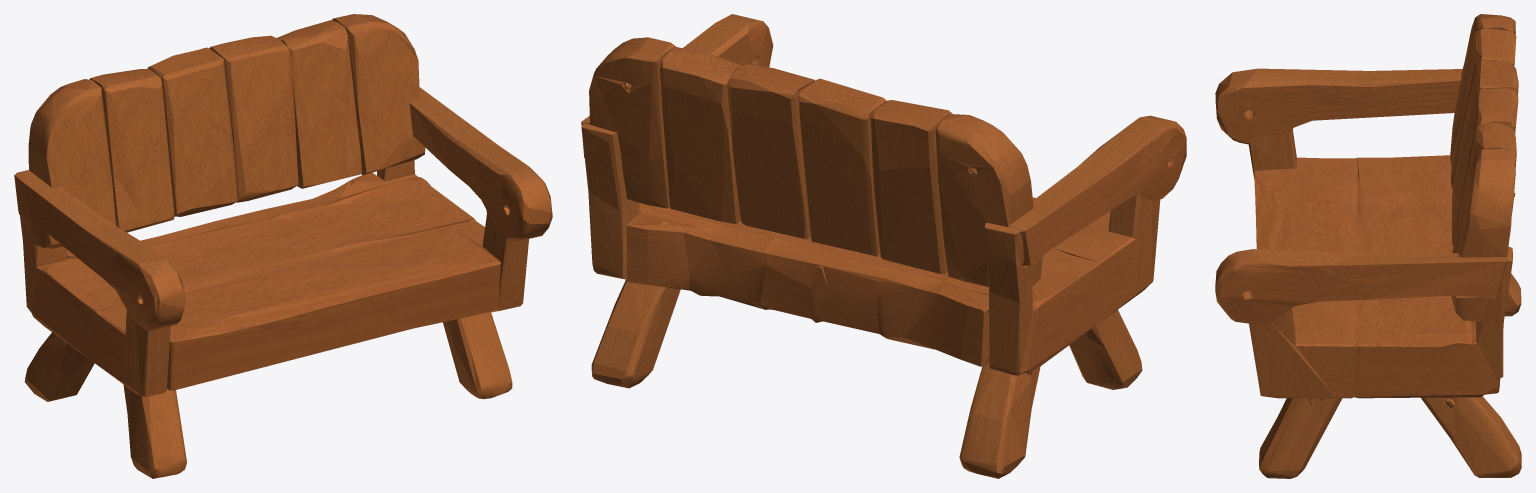
Rendered from bench_plank.glb.
The picture shows the model from 3 angles, left to right: view 1: azimuth 30°, elevation 25°; view 2: azimuth 150°, elevation 25°; view 3: azimuth 270°, elevation 25°; orthographic projection. The views are drawn at different scales.
Size of the model in its own units: 1.9 by 1.38 by 1.25.
Materials: 1 (1 with a texture image).
